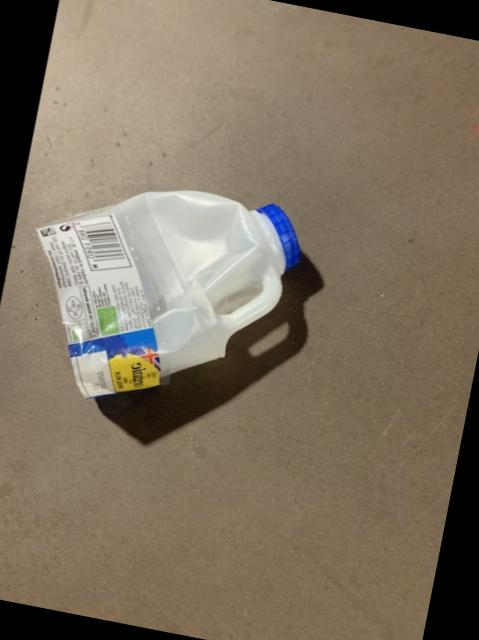plastic: (37, 190, 286, 395)
